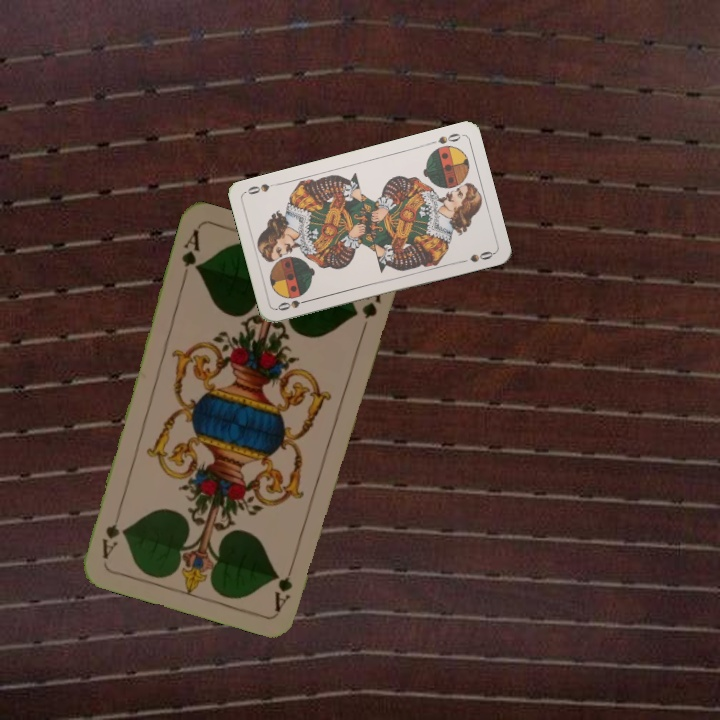GA: (270, 556, 297, 614), (177, 225, 202, 284)
SO: (425, 129, 463, 148), (273, 295, 313, 313)
